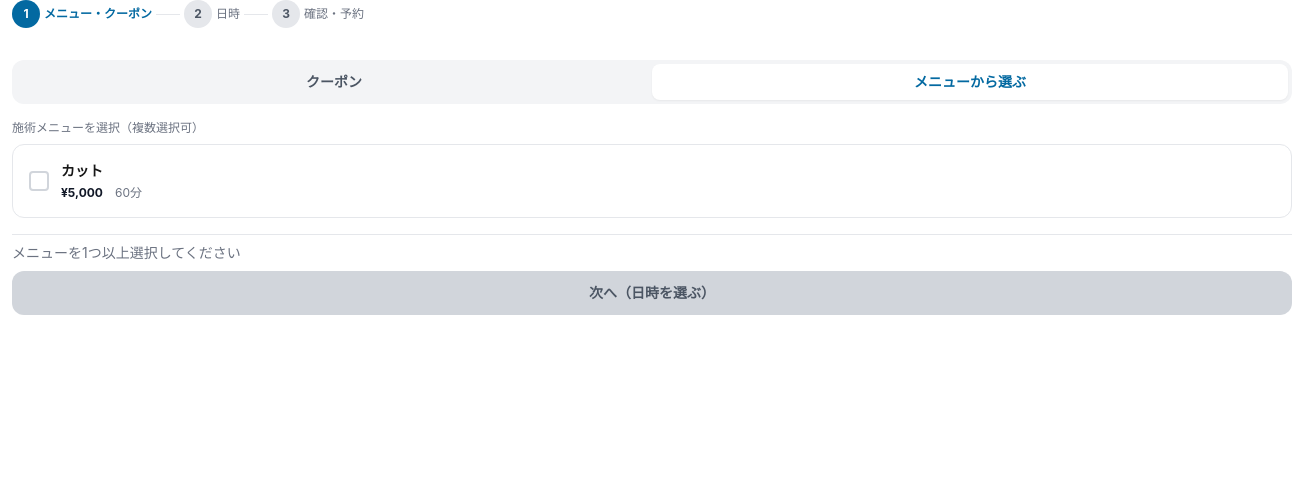
Test: defect5: Step2上部の選択中サマリ › 選択中のメニュー名・所要時間・合計金額・指名状態が日時ステップ上部に常時表示される
Click the text "カット" at x=82, y=171, box [61, 161, 103, 181]
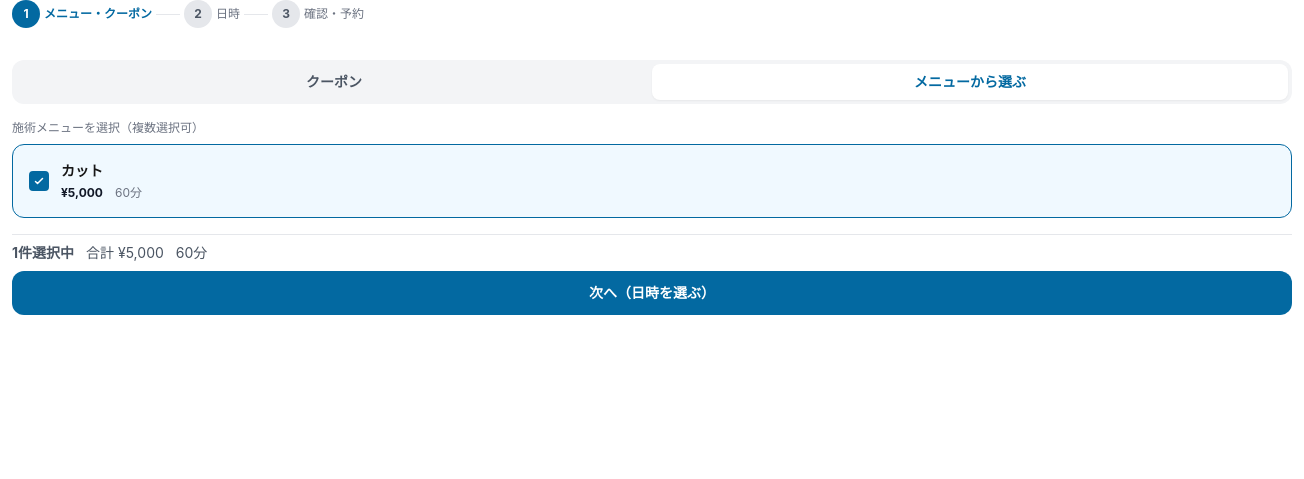
Click the button "次へ（日時を選ぶ）" at x=652, y=293, box [12, 271, 1292, 315]
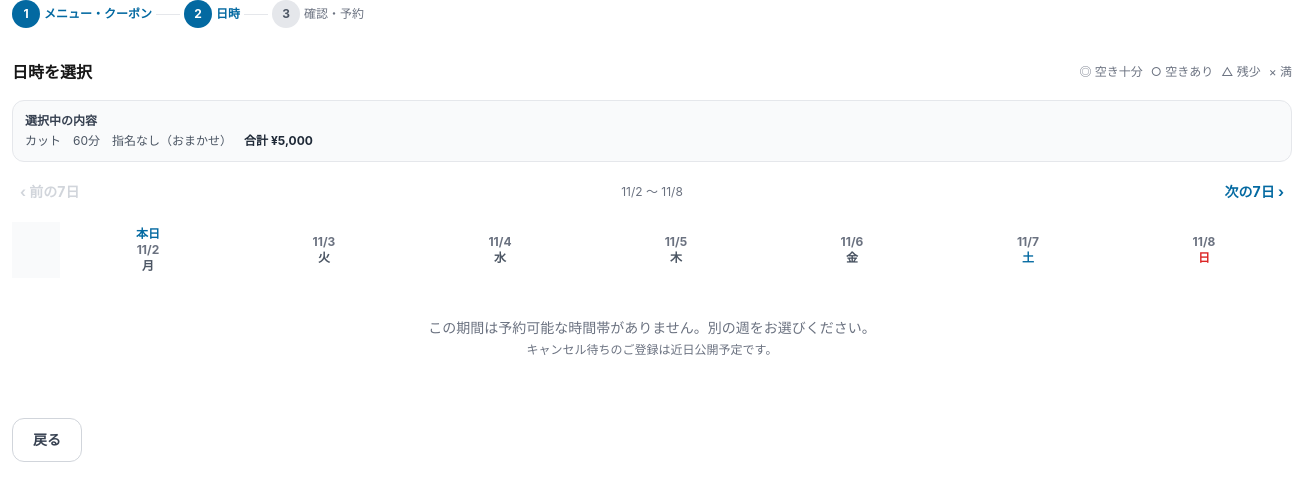
Now the text "選択中の内容" is shown, box [25, 113, 97, 128]
Now the text "合計 ¥5,000" is shown, box [244, 133, 313, 149]
Now the text "指名なし（おまかせ）" is shown, box [112, 133, 232, 149]
